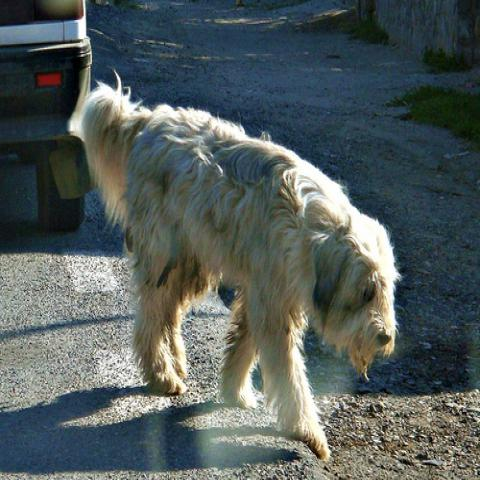car: (2, 1, 93, 230)
